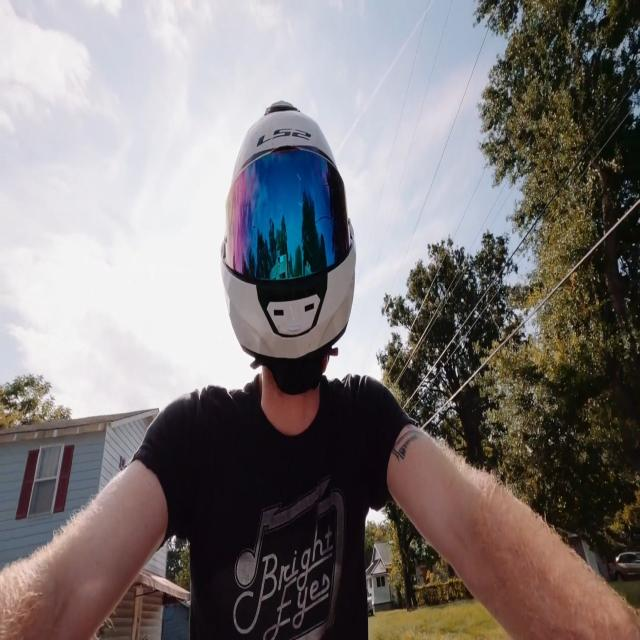Helmet_Wearer: (212, 92, 363, 463)
Person: (2, 95, 640, 640)
